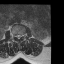CCS_normal: (18, 32, 19, 41)
LFS_normal: (21, 32, 23, 38)
LLS_normal: (19, 33, 21, 39)
RFS_normal: (14, 33, 16, 39)
RLS_normal: (16, 33, 18, 39)
